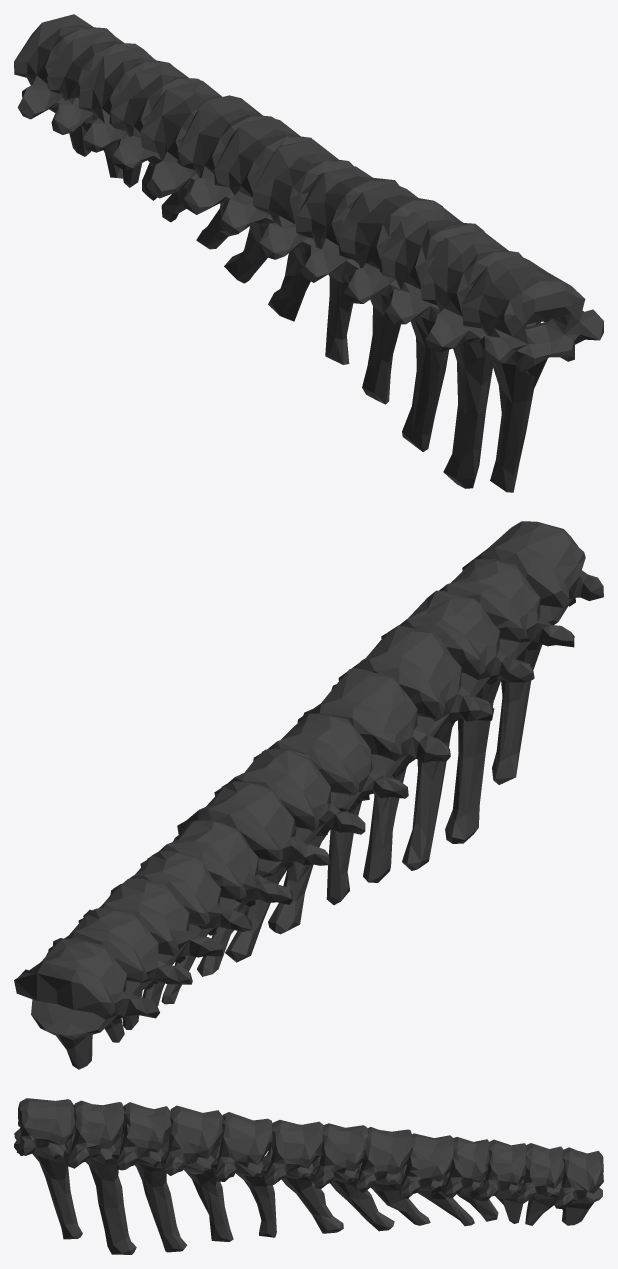
The model's file is Spine_thoracic.glb.
The picture shows the model from 3 angles, top to bottom: view 1: azimuth 30°, elevation 25°; view 2: azimuth 150°, elevation 25°; view 3: azimuth 270°, elevation 25°; orthographic projection. The views are drawn at different scales.
Parts seen in each view (by area): view 1: Spine_thoracic; view 2: Spine_thoracic; view 3: Spine_thoracic.
Boxes of the visible parts, box(x1,y1,x2,y2) form: Spine_thoracic: box(14, 14, 603, 492); Spine_thoracic: box(14, 521, 603, 1069); Spine_thoracic: box(14, 1098, 603, 1254).
Bounding box in the file's own units: 0.00136 × 0.00229 × 0.00794.
Materials: 1 (1 with a texture image).
